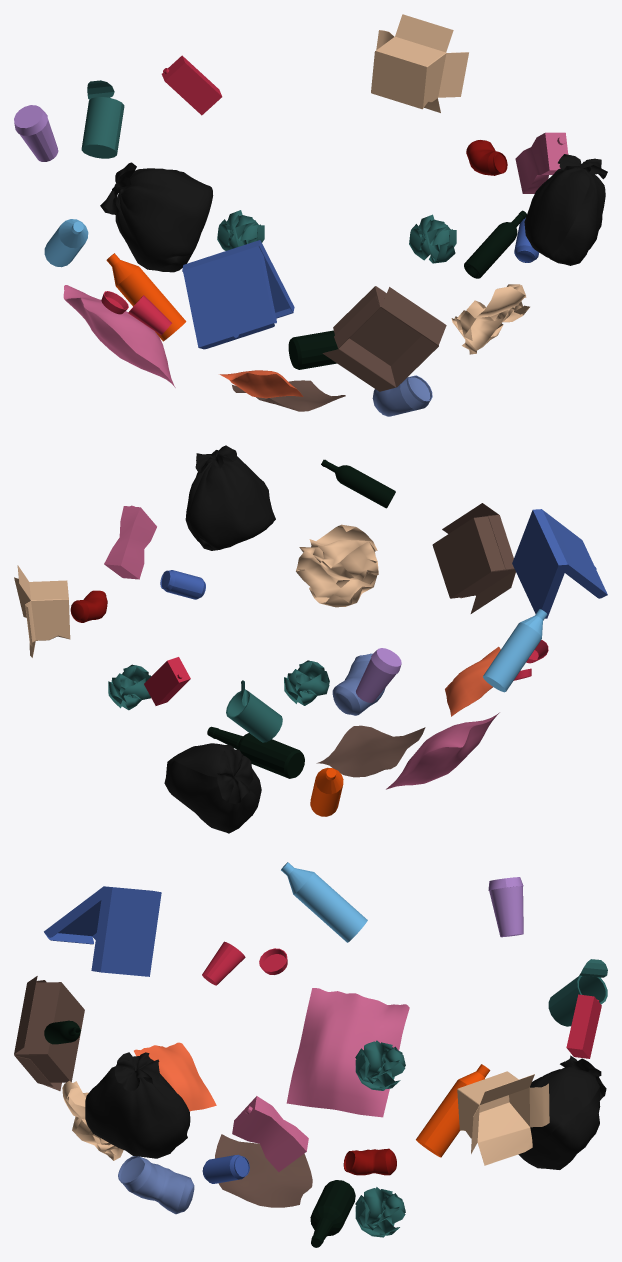
The model's file is trash.fbx.
3 renders of one model, top to bottom at view 1: azimuth 30°, elevation 25°; view 2: azimuth 150°, elevation 25°; view 3: azimuth 270°, elevation 25°, orthographic. The views are drawn at different scales.
Visible parts, largest first — view 1: bag001, pizza, box, boxe, bag, coffee (×2), paper, tin, Plane003, plasticbottle2, milk0, milk (+11 smaller); view 2: bag, bag001, box, pizza, paper, Plane001, boxe, milk0, plasticbottle, Cylinder003, Plane002, tin (+11 smaller); view 3: Plane003, bag, pizza, boxe, bag001, box, Plane001, coffee (×2), milk0, plasticbottle, can003, Plane006 (+10 smaller).
Part boxes in pixels (left/top/right/bottom): bag001: left=100, top=162, right=213, bottom=272; pizza: left=182, top=240, right=294, bottom=349; box: left=322, top=286, right=446, bottom=391; boxe: left=371, top=14, right=468, bottom=112; bag: left=524, top=154, right=607, bottom=265; coffee (×2): left=14, top=105, right=171, bottom=335; paper: left=451, top=284, right=529, bottom=354; tin: left=81, top=80, right=124, bottom=158; Plane003: left=63, top=285, right=174, bottom=386; plasticbottle2: left=106, top=253, right=186, bottom=341; milk0: left=515, top=132, right=568, bottom=193; milk: left=161, top=55, right=222, bottom=115; bag: left=185, top=445, right=275, bottom=550; bag001: left=164, top=743, right=261, bottom=833; box: left=432, top=503, right=515, bottom=613; pizza: left=512, top=509, right=607, bottom=618; paper: left=296, top=524, right=378, bottom=607; Plane001: left=316, top=725, right=425, bottom=777; boxe: left=14, top=565, right=70, bottom=657; milk0: left=104, top=505, right=156, bottom=579; plasticbottle: left=483, top=609, right=547, bottom=692; Cylinder003: left=207, top=726, right=304, bottom=778; Plane002: left=386, top=713, right=498, bottom=789; tin: left=226, top=680, right=282, bottom=742; Plane003: left=286, top=988, right=409, bottom=1117; bag: left=85, top=1052, right=190, bottom=1158; pizza: left=44, top=886, right=161, bottom=976; boxe: left=457, top=1071, right=549, bottom=1165; bag001: left=518, top=1055, right=606, bottom=1169; box: left=14, top=976, right=84, bottom=1090; Plane001: left=215, top=1134, right=312, bottom=1207; coffee (×2): left=202, top=877, right=523, bottom=985; milk0: left=232, top=1096, right=308, bottom=1171; plasticbottle: left=281, top=862, right=367, bottom=942; can003: left=118, top=1156, right=194, bottom=1214; Plane006: left=134, top=1043, right=216, bottom=1111.
Size of the model in its own units: 45.51 by 21.83 by 47.06.
